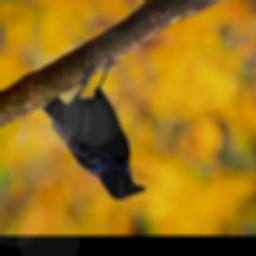Crow: (40, 56, 146, 200)
